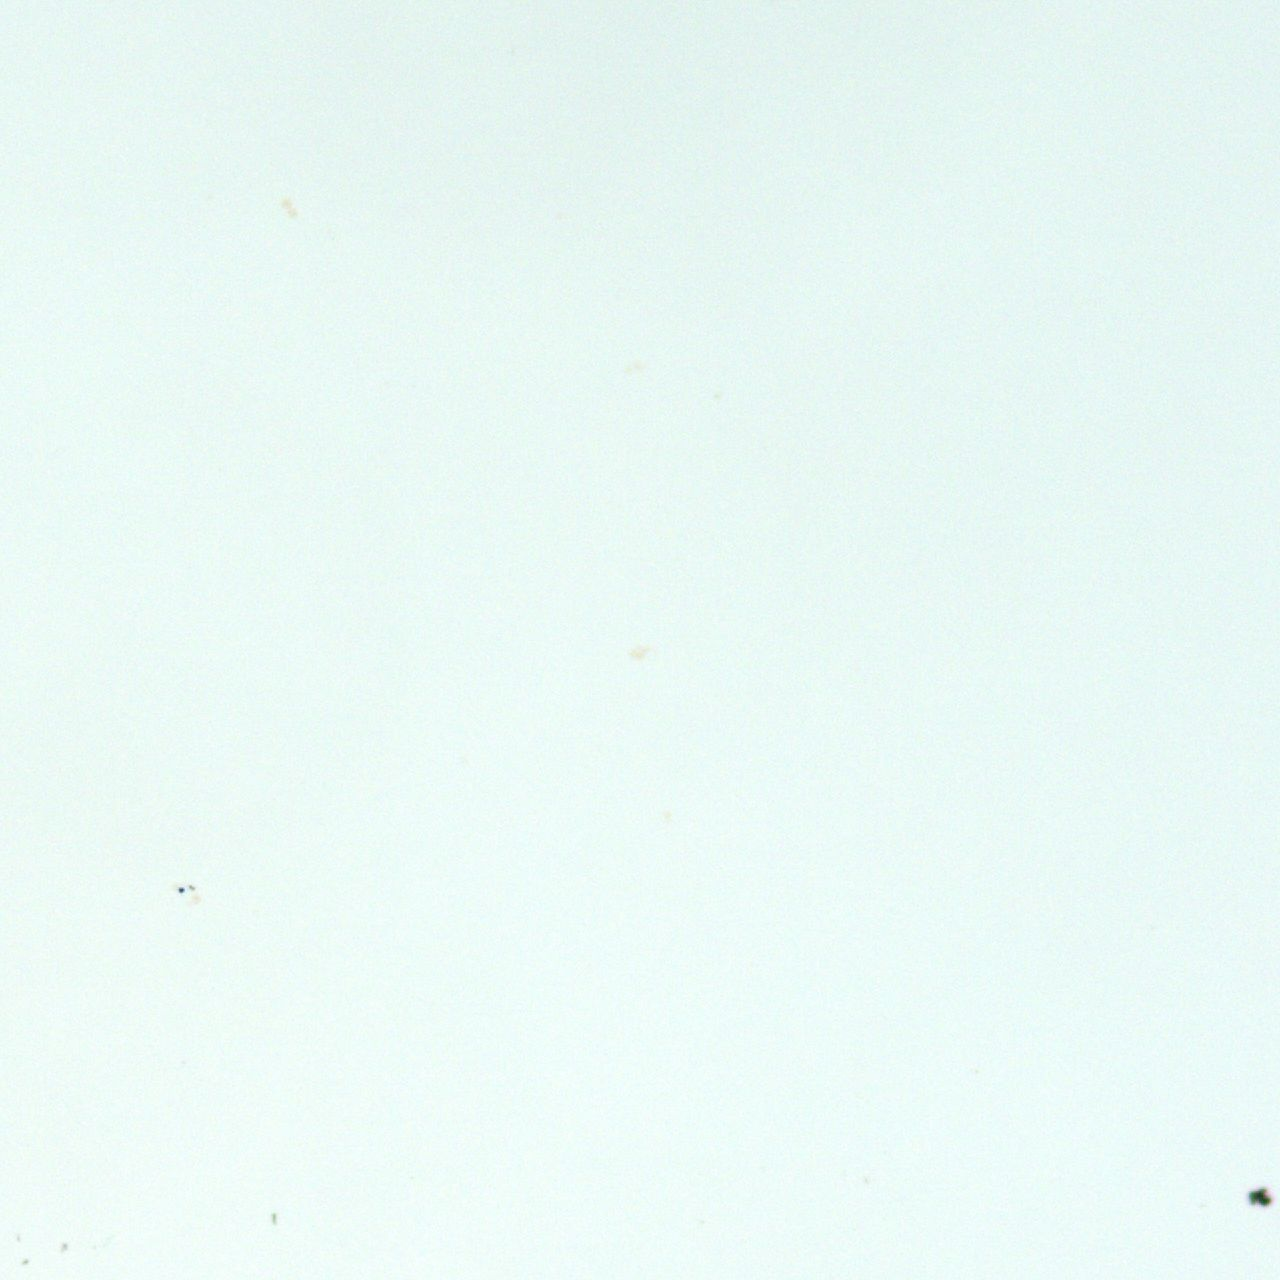dust: (1247, 1185, 1272, 1207), (270, 1211, 278, 1223), (60, 1242, 68, 1252), (15, 1232, 21, 1242), (178, 886, 184, 893), (22, 1258, 28, 1263)
